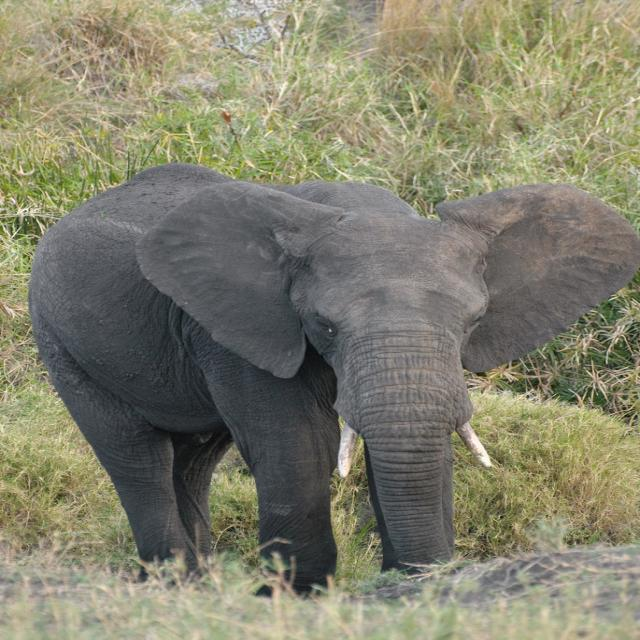Elephant: (25, 161, 640, 598)
